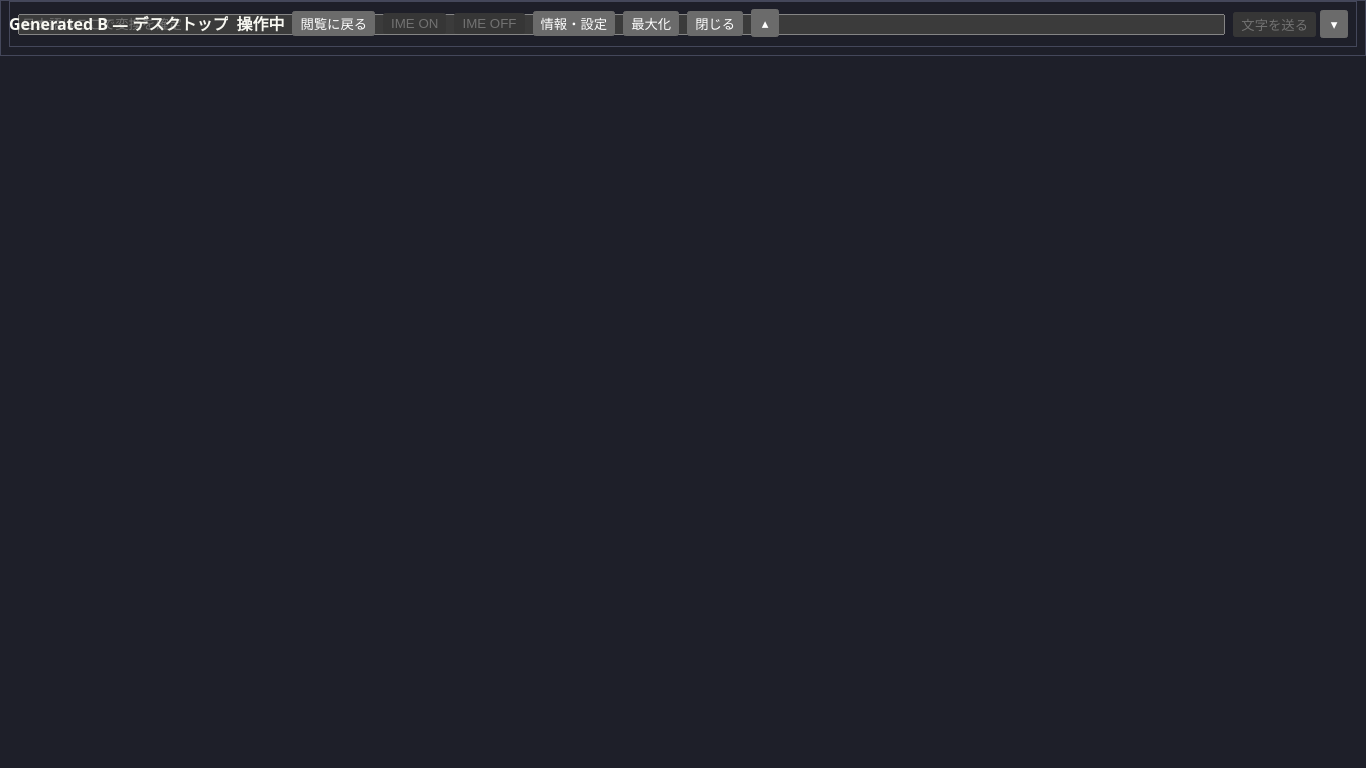
Test: accepts protocol grants before cancellation and after a fresh request, while rejecting cancelled grants
Expected: the text "操作中" next to "Generated B — デスクトップ" is shown, [236, 13, 284, 35]
Click the button "閲覧に戻る" at (334, 23), box [292, 10, 375, 36]
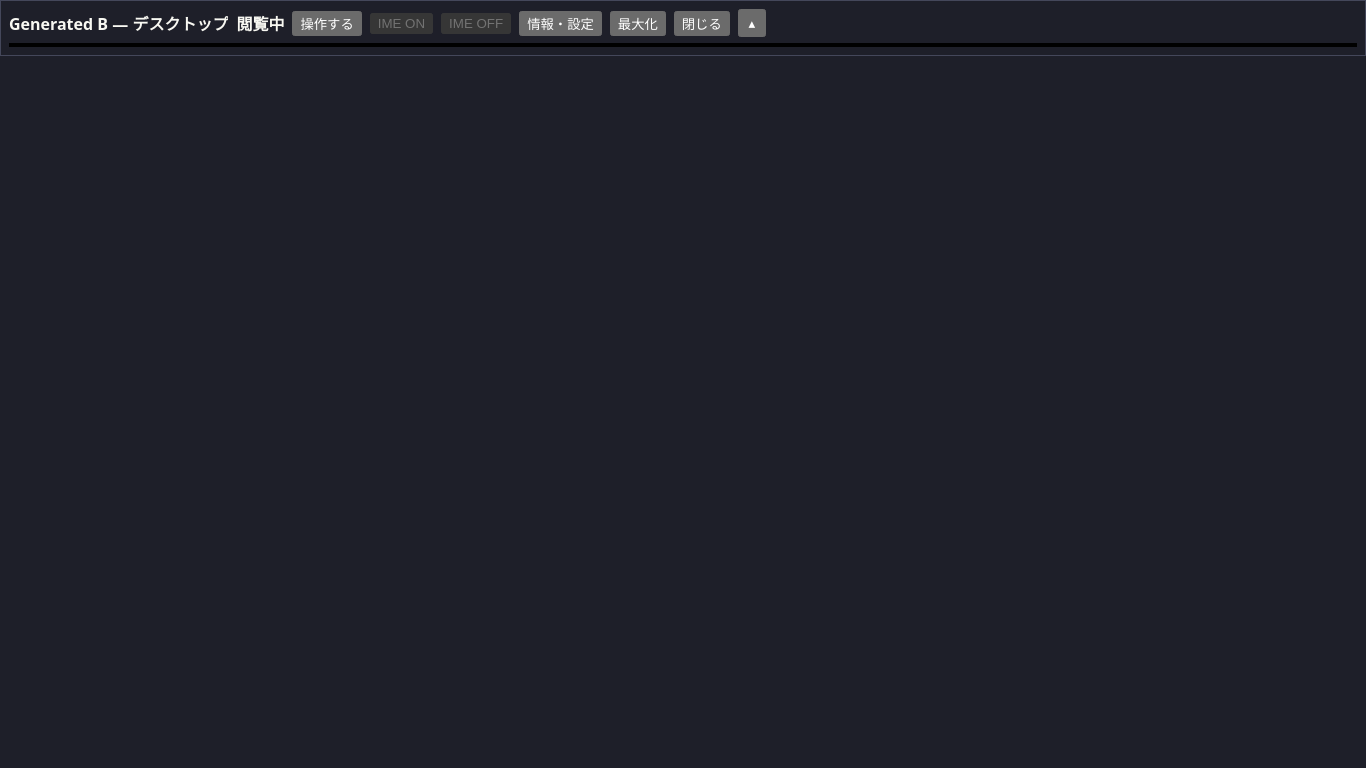
Expected: the text "閲覧中" next to "Generated B — デスクトップ" is shown, [236, 13, 284, 35]
Click the button "操作する" at (327, 23), box [292, 10, 362, 36]
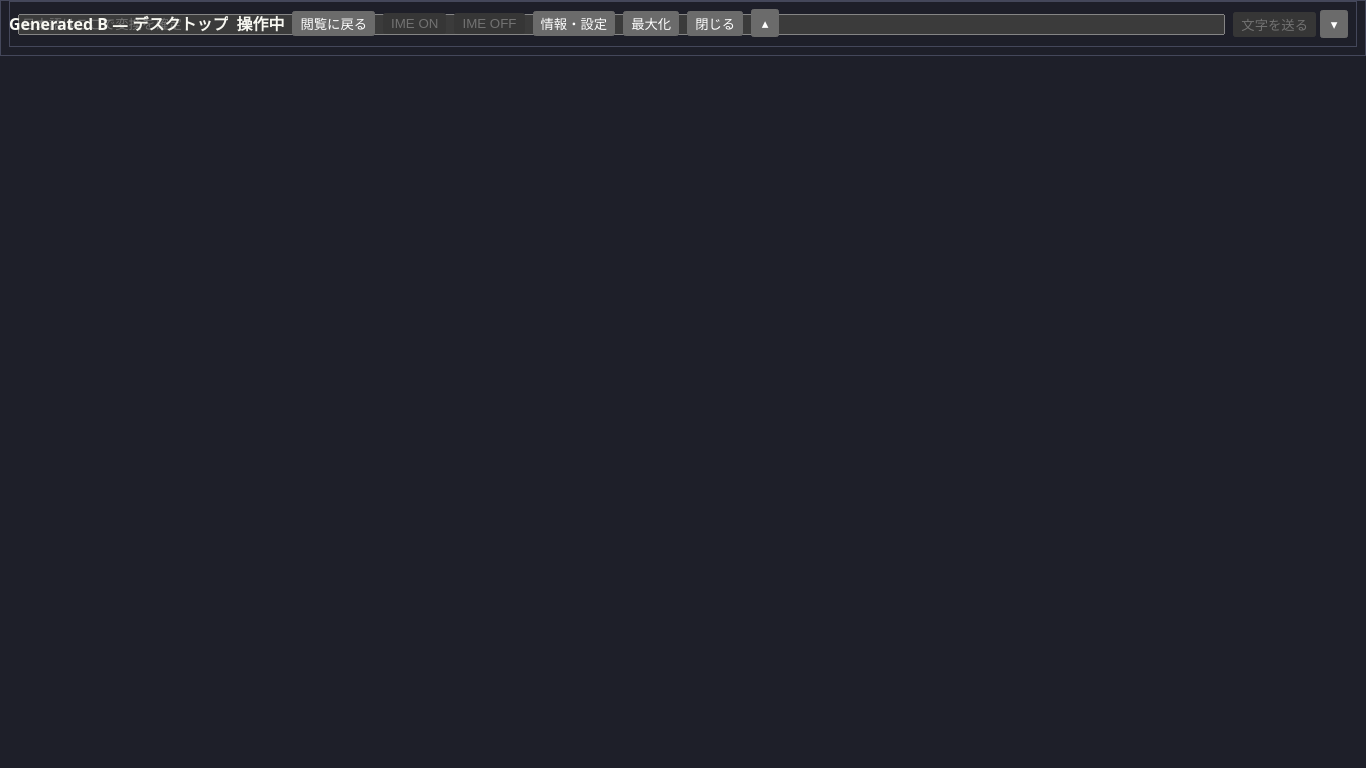
Expected: the text "操作中" next to "Generated B — デスクトップ" is shown, [236, 13, 284, 35]
